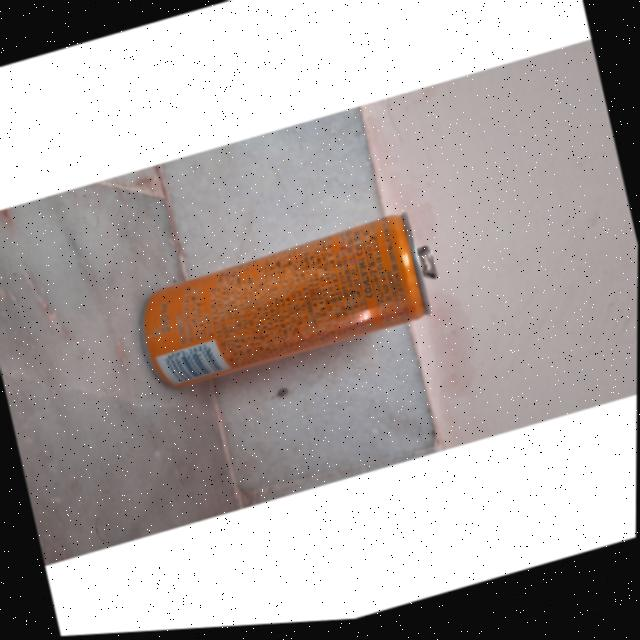Redbull Yellow Edition: (120, 213, 446, 417)
